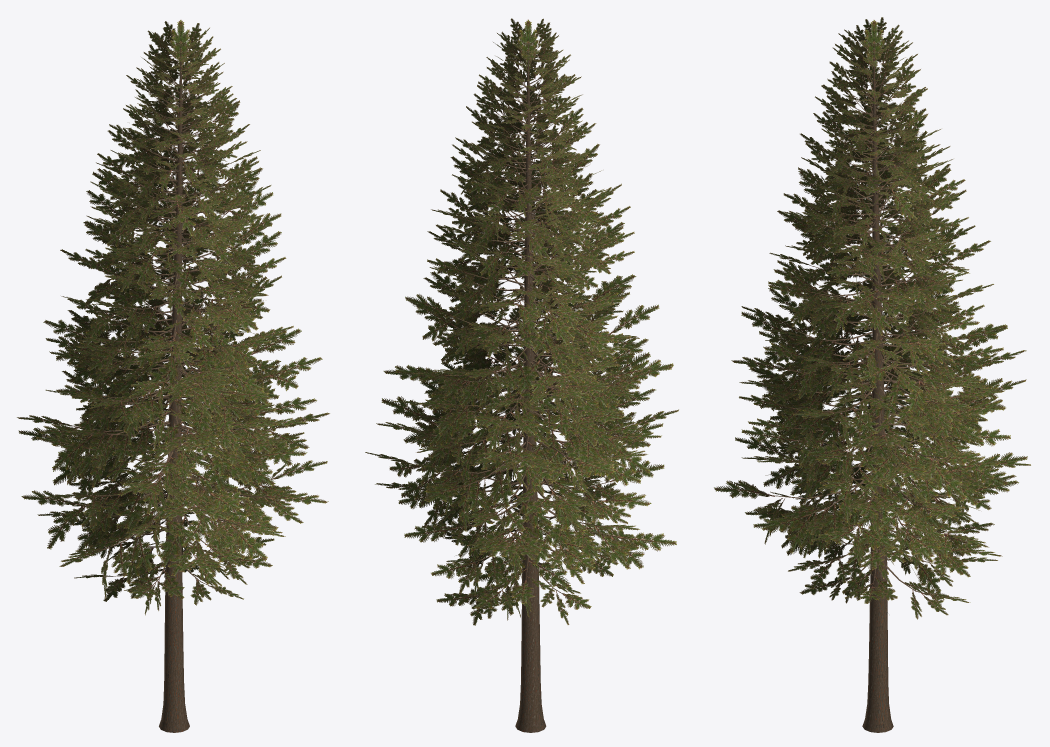
File: fir_medium_b_lod0.gltf
3 views of the same model, side by side, from view 1: azimuth 30°, elevation 25°; view 2: azimuth 150°, elevation 25°; view 3: azimuth 270°, elevation 25° (orthographic).
Parts seen in each view (by area): view 1: fir_medium_b_LOD0; view 2: fir_medium_b_LOD0; view 3: fir_medium_b_LOD0.
Part boxes in pixels (<box>): fir_medium_b_LOD0: <box>17,20,329,732</box>; fir_medium_b_LOD0: <box>365,18,678,732</box>; fir_medium_b_LOD0: <box>714,17,1030,732</box>.
Size of the model in its own units: 9.5 by 23.52 by 9.73.
Materials: 2 (2 with a texture image).
